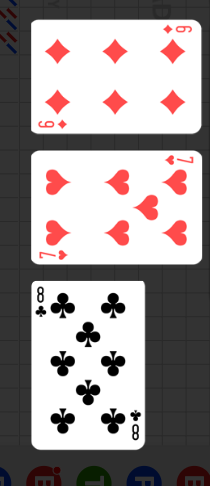6D: (161, 23, 194, 35)
7H: (37, 248, 69, 261)
8C: (128, 407, 142, 442)
